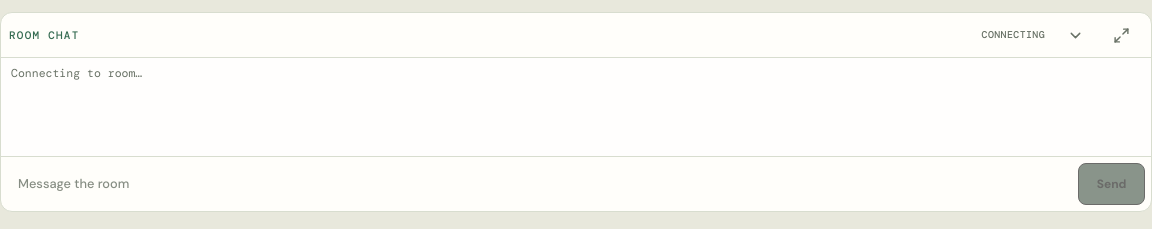
Test: RoomChatPanel message polling › confirms a late post without rendering it after changing rooms
The width and height of the screenshot is (1152, 229).
In the field labelled "Message the room": (540, 184) [7, 163, 1072, 205], type "The old bridge is clear."
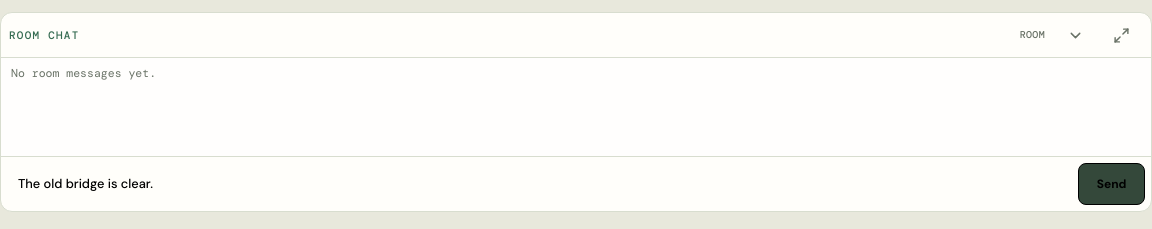
Submit the form named "Message the room", box [1, 156, 1151, 211]
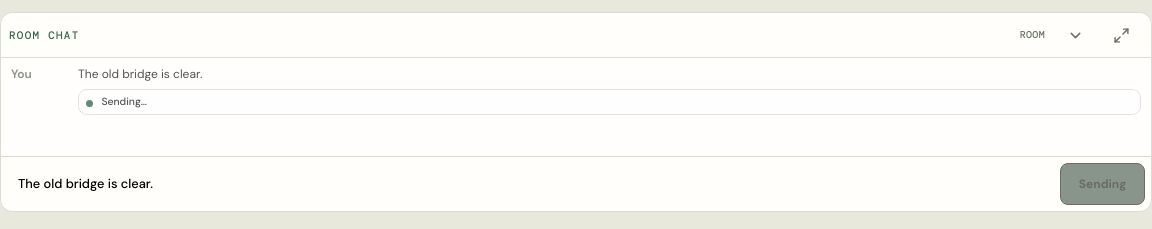
Now the text "The old bridge is clear." is shown, box [78, 66, 202, 82]
Now the text "Sending…" is shown, box [101, 95, 147, 109]
